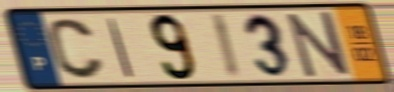3: (243, 10, 299, 81)
9: (147, 11, 199, 83)
C: (45, 16, 107, 81)
I: (207, 11, 244, 82), (105, 16, 137, 80)
N: (284, 9, 353, 80)
